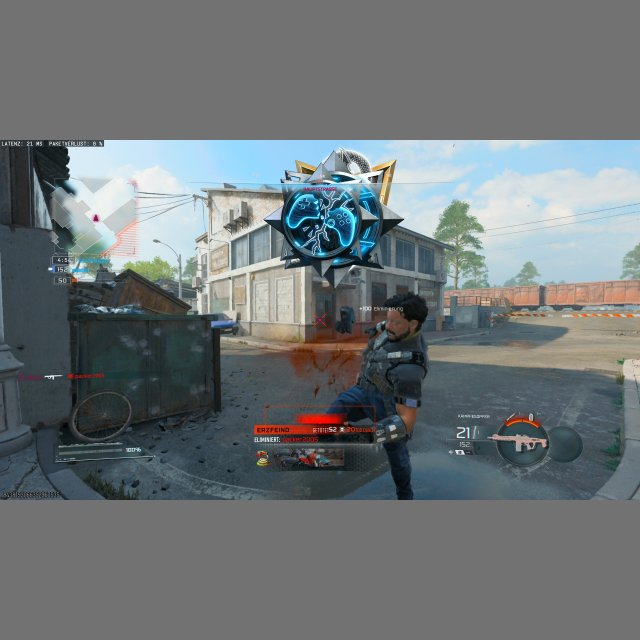head: (384, 292, 428, 338)
player: (314, 292, 429, 499)
